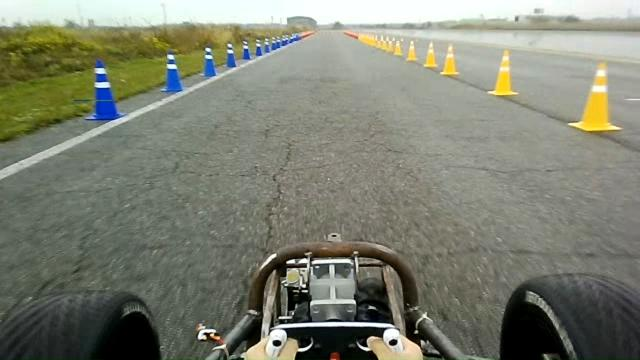blue cone: (83, 58, 126, 121), (160, 50, 184, 92), (201, 46, 217, 78), (224, 42, 237, 68), (242, 40, 251, 59), (255, 38, 262, 56)
yellow cone: (567, 61, 623, 132), (488, 49, 518, 96), (440, 43, 459, 76), (423, 40, 438, 68), (406, 40, 418, 62), (393, 40, 402, 56)
